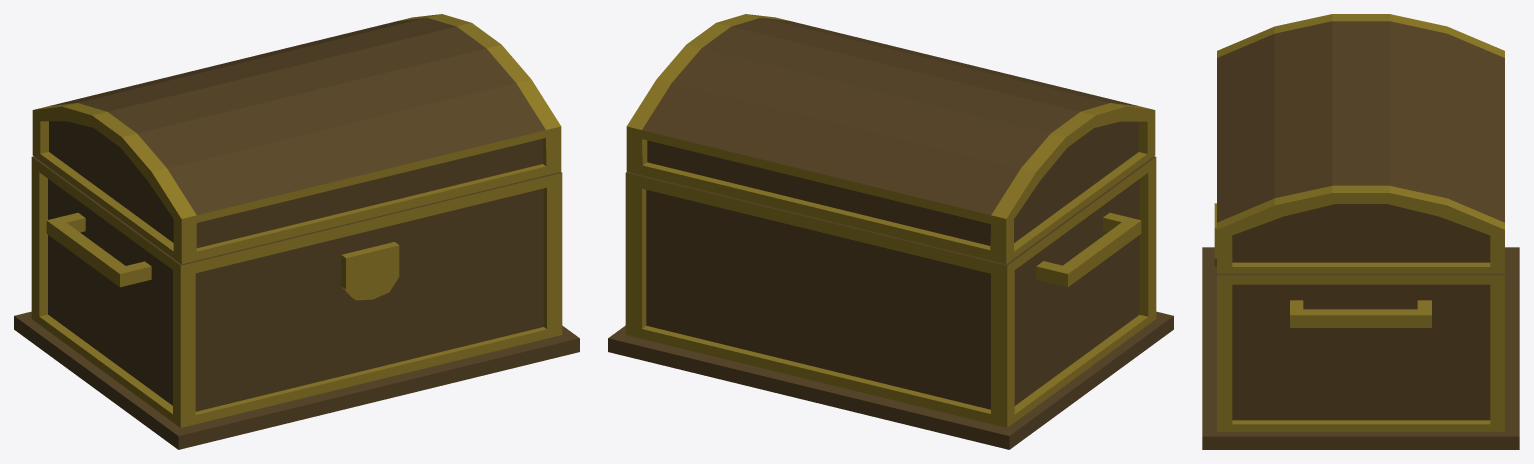
File: Chest.fbx
3 renders of one model, left to right at view 1: azimuth 30°, elevation 25°; view 2: azimuth 150°, elevation 25°; view 3: azimuth 270°, elevation 25°, orthographic. The views are drawn at different scales.
Visible parts, largest first — view 1: Cube, Cube.001; view 2: Cube, Cube.001; view 3: Cube.001, Cube.
Boxes of the visible parts, x1,y1,x2,y2 form: Cube: (14, 156, 579, 449); Cube.001: (32, 14, 561, 264); Cube: (608, 156, 1173, 449); Cube.001: (626, 14, 1155, 264); Cube.001: (1217, 14, 1504, 273); Cube: (1202, 203, 1519, 449).
Size of the model in its own units: 331 by 193 by 221.
